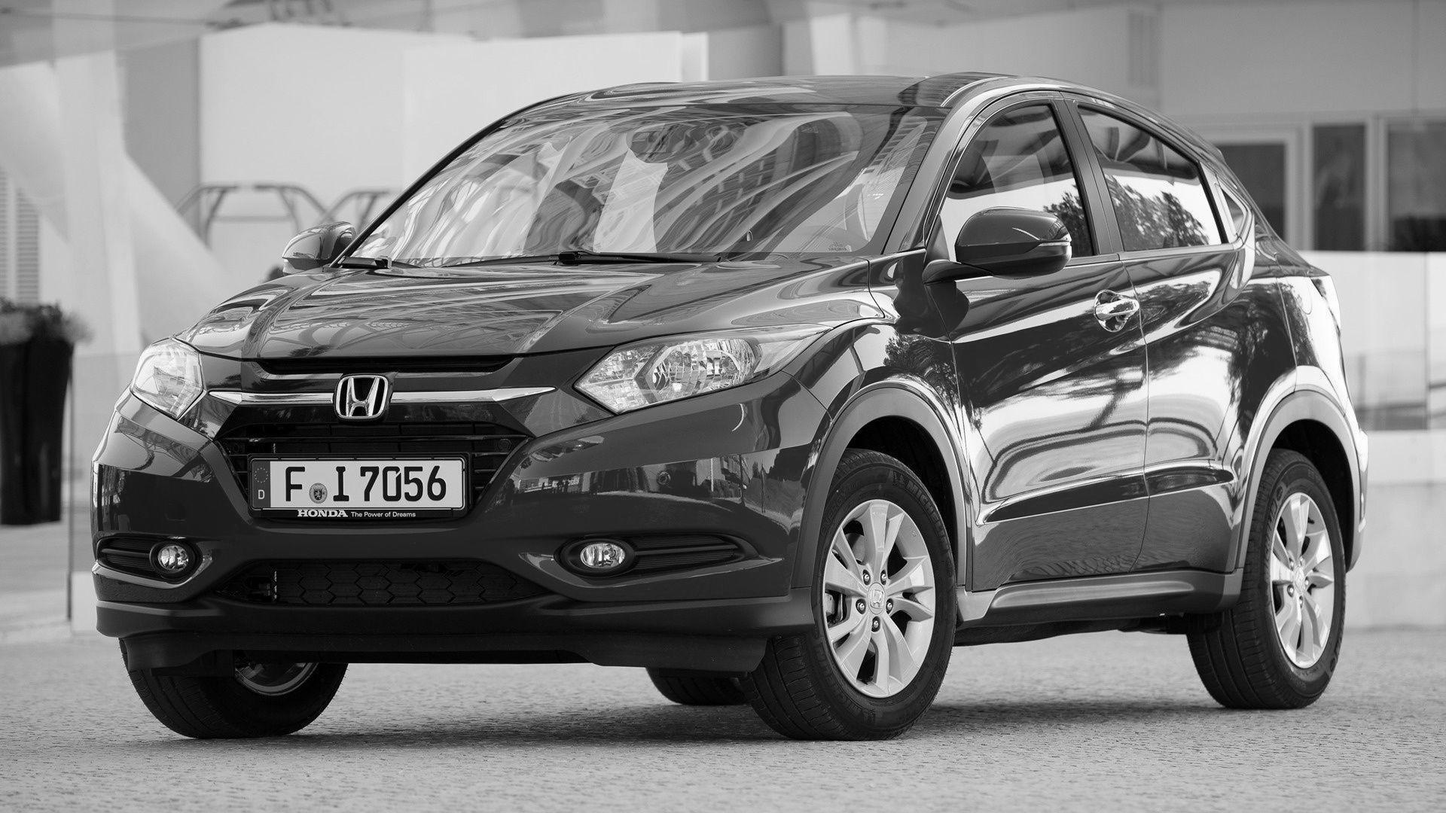Car hood: (170, 246, 888, 362)
Fender - -F-L-: (779, 236, 981, 634)
Fender - -R-L-: (1249, 238, 1354, 439)
Front bumper: (79, 412, 854, 684)
Headlight - -L-: (567, 320, 770, 422)
Headlight - -R-: (119, 326, 214, 433)
Passenger-s door - -F-L-: (947, 76, 1152, 597)
Passenger-s door - -R-L-: (1128, 109, 1307, 584)
Rear bumper: (1340, 386, 1392, 587)
Rear light - -L-: (1305, 258, 1352, 332)
Side bumper - -L-: (947, 565, 1246, 660)
Side mirror - -L-: (911, 199, 1078, 294)
Side mirror - -R-: (269, 213, 369, 280)
